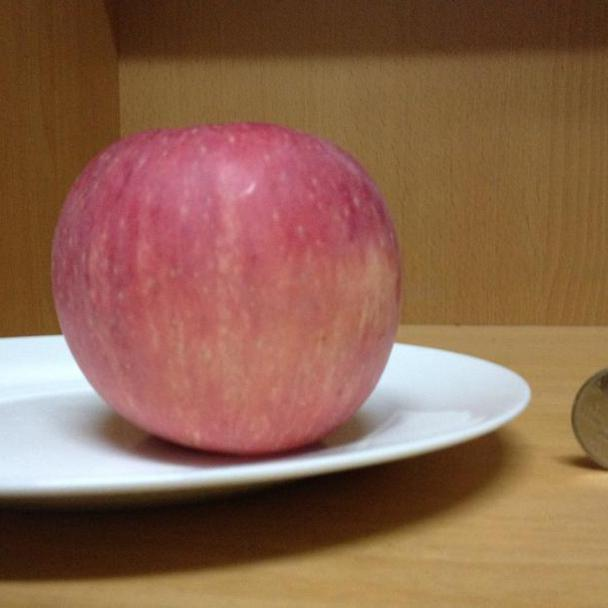apple: (50, 121, 401, 455)
